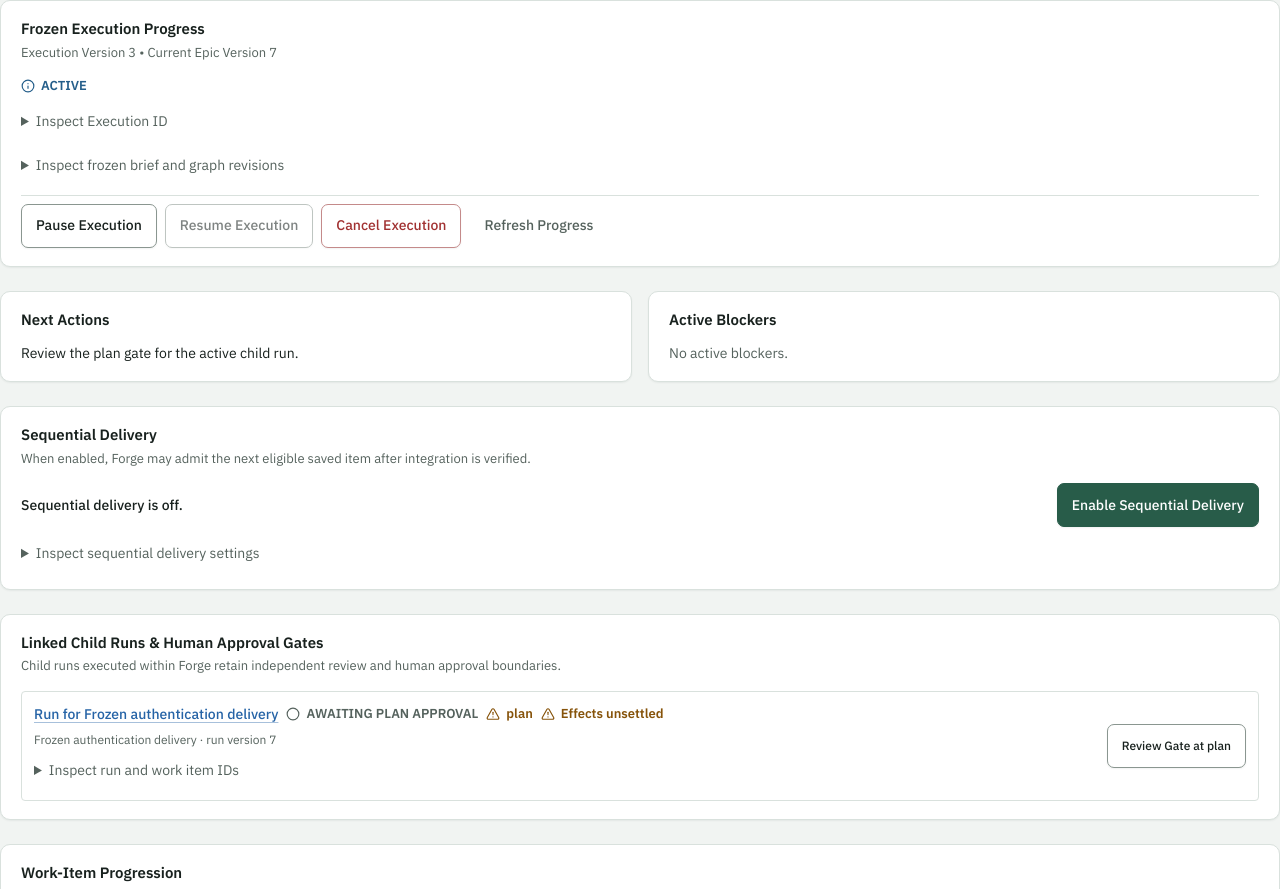
Test case: DeliveryWorkspace › distinguishes execution-command version conflict from execution-start epic version conflict
Expected: the text "ACTIVE" is shown, x1=21 y1=77 x2=87 y2=95
Click the button "Pause Execution" at {"x": 89, "y": 226}, box x1=21 y1=204 x2=157 y2=248
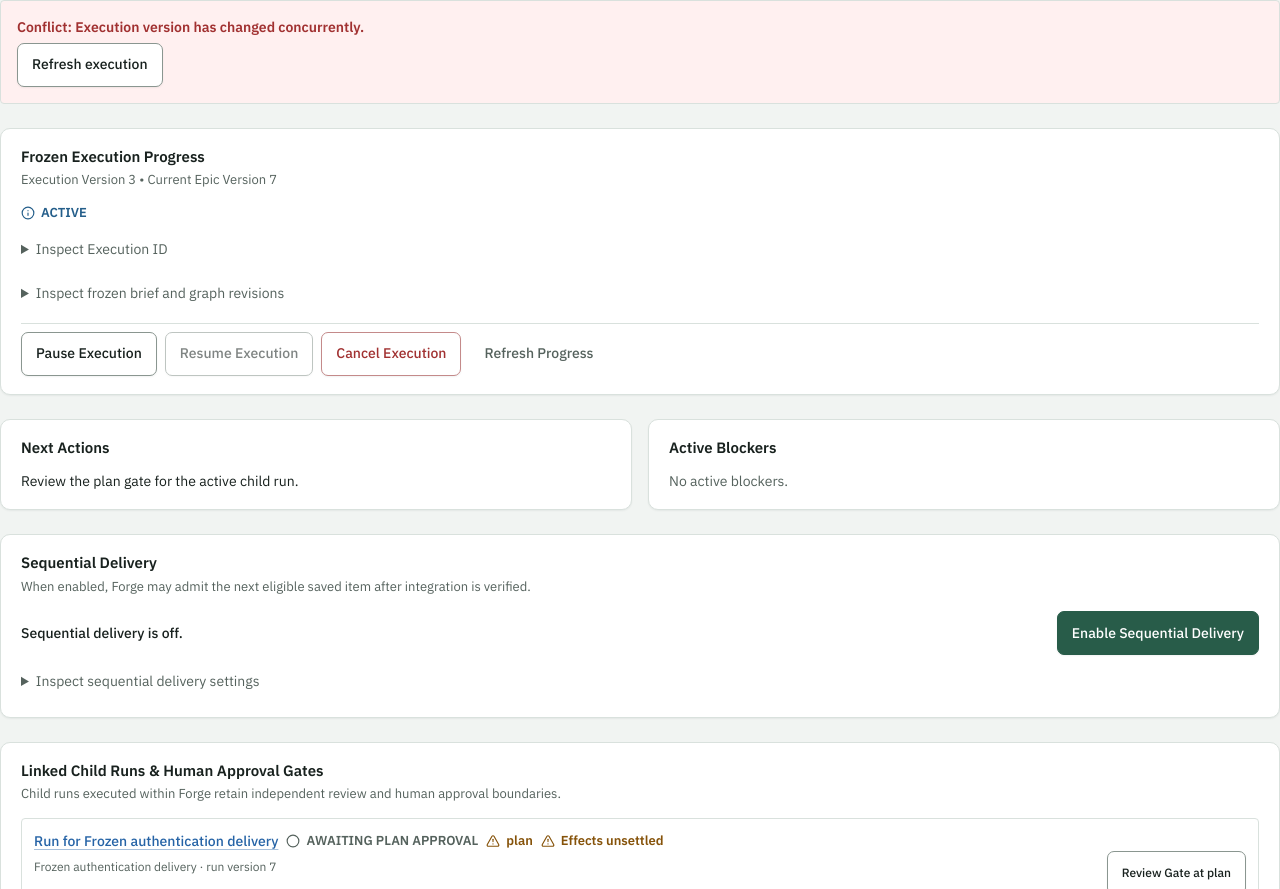
Result: the text "Conflict: Execution version has changed concurrently." is shown at x1=17 y1=18 x2=364 y2=36
